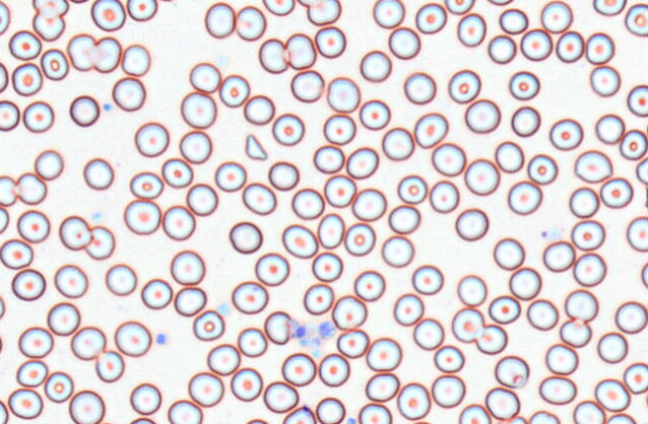PLT: (318, 322, 335, 340), (157, 333, 170, 346), (295, 325, 306, 338), (101, 102, 112, 112), (311, 337, 322, 347), (346, 416, 358, 424), (298, 339, 309, 347), (313, 348, 322, 357)
RBC: (180, 91, 217, 129), (123, 198, 161, 234), (187, 371, 224, 407), (114, 320, 151, 356), (464, 158, 500, 195), (396, 382, 431, 420), (331, 294, 367, 330), (281, 223, 318, 258), (574, 149, 612, 183), (70, 325, 106, 360), (170, 249, 205, 285), (134, 121, 169, 157), (413, 112, 448, 148), (464, 98, 500, 133), (68, 389, 105, 423), (365, 337, 402, 371), (231, 280, 268, 314), (111, 76, 146, 111), (507, 180, 542, 215), (53, 263, 88, 298), (326, 76, 360, 112), (281, 352, 316, 386), (351, 187, 386, 221), (254, 252, 289, 286), (594, 378, 630, 411), (484, 386, 520, 419), (162, 204, 195, 240), (284, 32, 316, 69), (572, 252, 606, 286), (431, 374, 465, 408), (16, 209, 50, 243), (454, 207, 488, 241), (431, 142, 465, 176), (263, 380, 298, 413), (241, 182, 276, 215), (11, 268, 46, 301), (494, 355, 529, 388), (451, 307, 484, 342), (58, 215, 91, 250), (179, 129, 212, 164), (447, 68, 480, 103), (7, 387, 43, 419), (204, 1, 235, 38), (66, 33, 96, 71), (91, 35, 121, 73), (564, 288, 598, 321), (549, 117, 583, 150), (228, 220, 262, 253), (47, 301, 80, 335), (508, 266, 541, 300), (290, 69, 324, 102), (381, 126, 414, 160), (18, 326, 53, 358), (318, 352, 350, 387), (235, 5, 266, 41), (538, 375, 576, 404), (614, 300, 647, 333), (540, 0, 573, 33), (323, 174, 356, 207), (271, 112, 304, 145), (104, 263, 137, 296), (346, 146, 379, 179), (381, 234, 414, 267), (403, 71, 436, 104), (218, 73, 250, 107), (206, 343, 240, 375), (186, 182, 218, 216), (230, 367, 262, 401), (90, 0, 125, 31), (570, 219, 605, 250), (258, 37, 288, 73), (412, 317, 444, 350), (314, 25, 346, 58), (545, 343, 578, 375), (388, 26, 420, 59), (323, 113, 356, 145), (129, 382, 161, 415), (291, 187, 324, 219), (520, 28, 552, 61), (359, 49, 391, 82), (492, 237, 524, 270), (542, 240, 575, 272), (11, 62, 42, 96), (393, 292, 424, 326), (344, 222, 375, 256), (599, 177, 633, 208), (364, 372, 399, 402), (85, 225, 115, 260), (456, 12, 486, 47), (192, 309, 224, 341), (214, 160, 246, 192), (189, 61, 221, 93), (302, 283, 334, 315), (526, 298, 558, 330), (415, 2, 447, 34), (353, 269, 385, 301), (358, 98, 390, 130), (22, 100, 54, 132), (8, 29, 41, 60), (0, 238, 33, 269), (83, 157, 114, 190), (429, 179, 459, 213), (317, 212, 344, 249), (475, 323, 507, 354), (161, 157, 193, 188), (15, 172, 46, 204), (140, 278, 172, 309), (411, 264, 443, 295), (597, 331, 628, 363), (456, 274, 487, 306), (568, 186, 599, 218), (589, 65, 620, 97), (494, 140, 524, 173), (129, 170, 163, 199), (311, 251, 342, 282), (243, 94, 274, 125), (526, 153, 557, 184), (594, 113, 625, 144), (94, 350, 124, 382), (336, 328, 368, 358), (488, 294, 520, 324), (174, 286, 206, 316), (388, 204, 420, 234), (267, 160, 299, 190), (510, 105, 540, 137), (69, 94, 99, 126), (508, 70, 540, 100), (32, 12, 65, 41), (121, 43, 150, 76), (555, 30, 584, 63), (585, 31, 614, 64), (237, 326, 267, 357), (559, 318, 591, 347), (44, 371, 73, 403), (34, 148, 63, 180), (397, 174, 427, 204), (313, 144, 344, 173), (40, 48, 68, 80), (16, 359, 48, 387), (372, 0, 404, 28), (306, 0, 341, 25), (487, 34, 516, 64), (433, 344, 464, 372), (619, 129, 647, 160), (167, 399, 203, 423), (315, 396, 345, 423), (572, 399, 605, 423), (624, 2, 647, 36), (498, 8, 528, 34), (623, 362, 647, 394), (626, 215, 647, 251), (357, 402, 391, 423), (626, 84, 647, 117), (458, 403, 491, 423), (126, 0, 157, 21), (32, 0, 68, 18), (0, 99, 20, 131), (282, 405, 315, 423), (0, 174, 17, 206), (592, 0, 626, 16), (262, 0, 295, 16), (444, 0, 474, 14), (528, 410, 560, 423), (0, 0, 10, 35), (635, 157, 647, 184), (605, 413, 636, 423), (0, 61, 8, 93), (496, 415, 527, 423), (0, 206, 9, 233), (0, 399, 8, 423), (297, 0, 324, 7), (129, 416, 156, 423), (486, 0, 514, 6), (641, 261, 647, 288), (244, 417, 269, 423), (0, 294, 5, 319), (409, 420, 433, 424), (0, 332, 3, 355), (68, 0, 89, 3), (156, 0, 180, 2)
Schistocyte: (265, 310, 290, 345), (245, 134, 268, 161)
